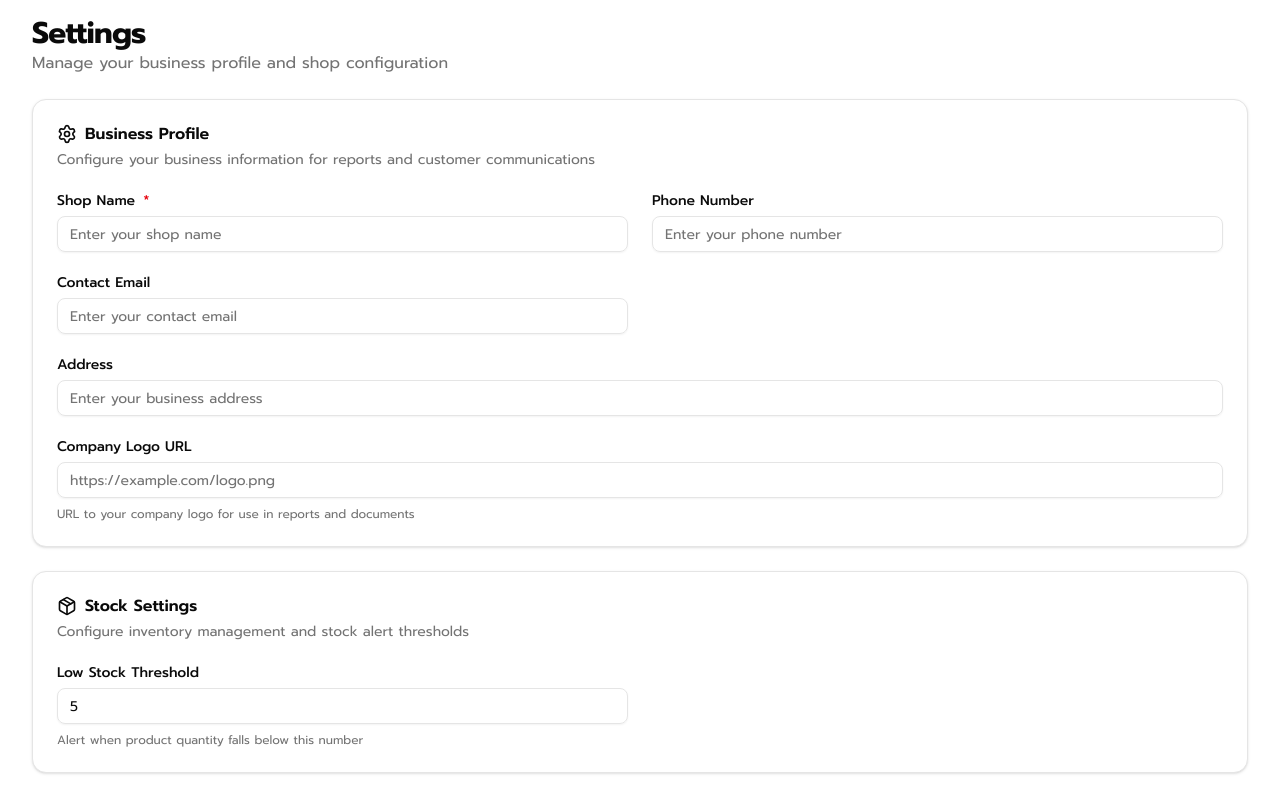
it: Settings Page › validates email format
This screenshot has width=1280, height=791.
Type "Test Shop" into the field labelled "Shop Name *". click: (342, 234)
box: [57, 216, 628, 252]
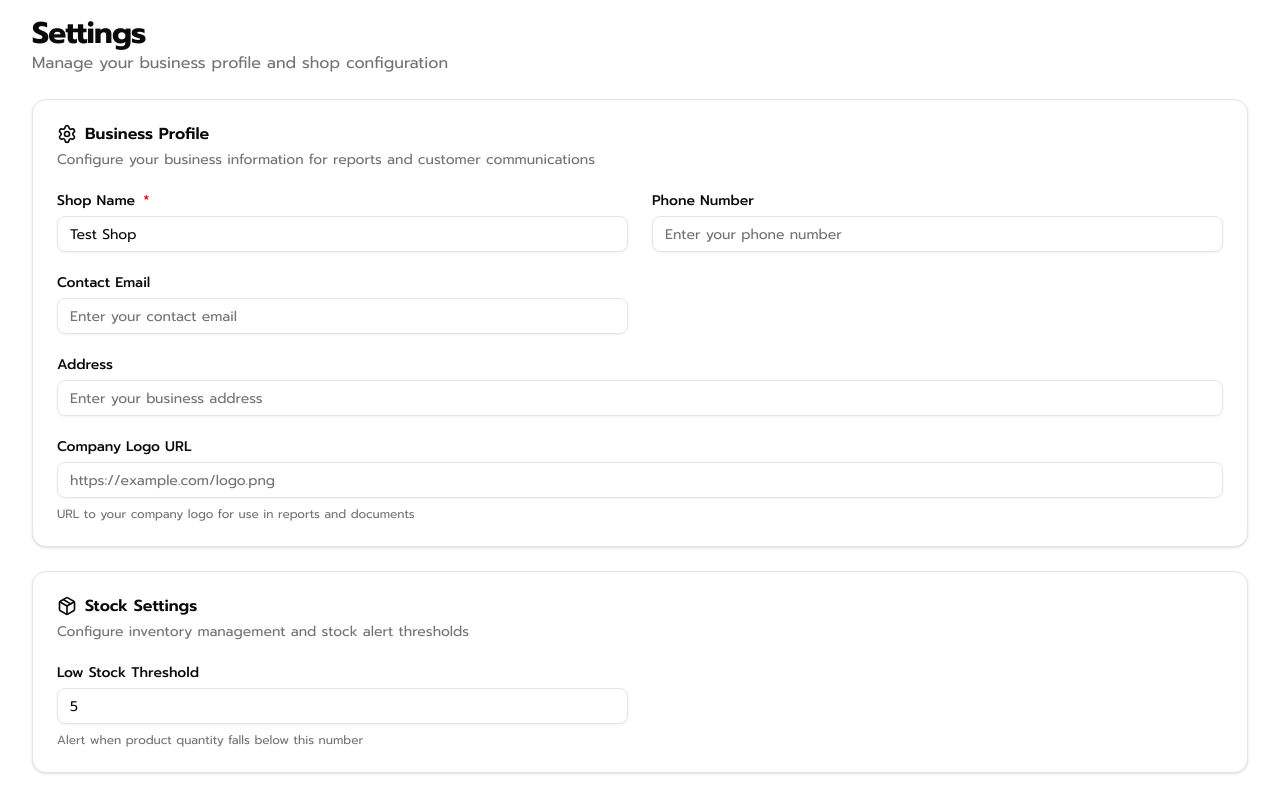
Type "invalid-email" into the field labelled "Contact Email". click: (342, 316)
box: [57, 298, 628, 334]
(page scrolled)
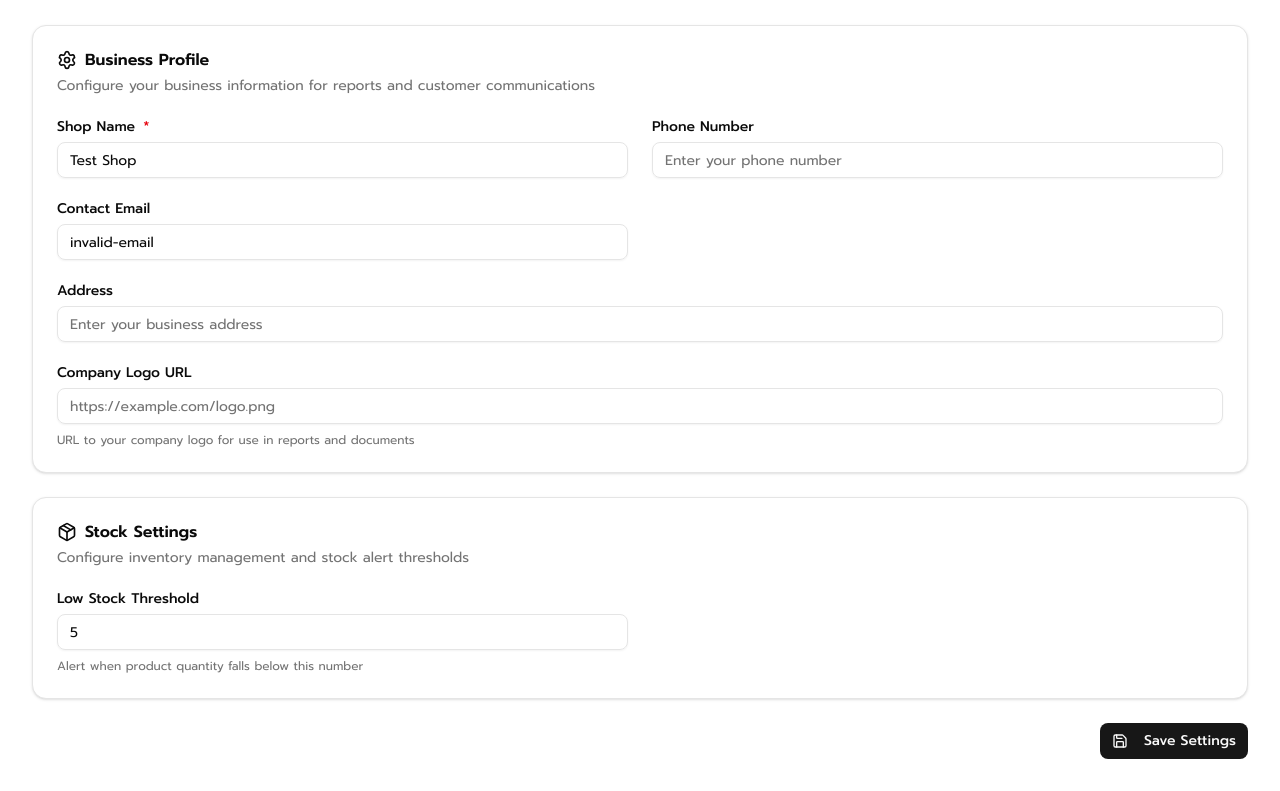
Submit the form named "Save Settings"
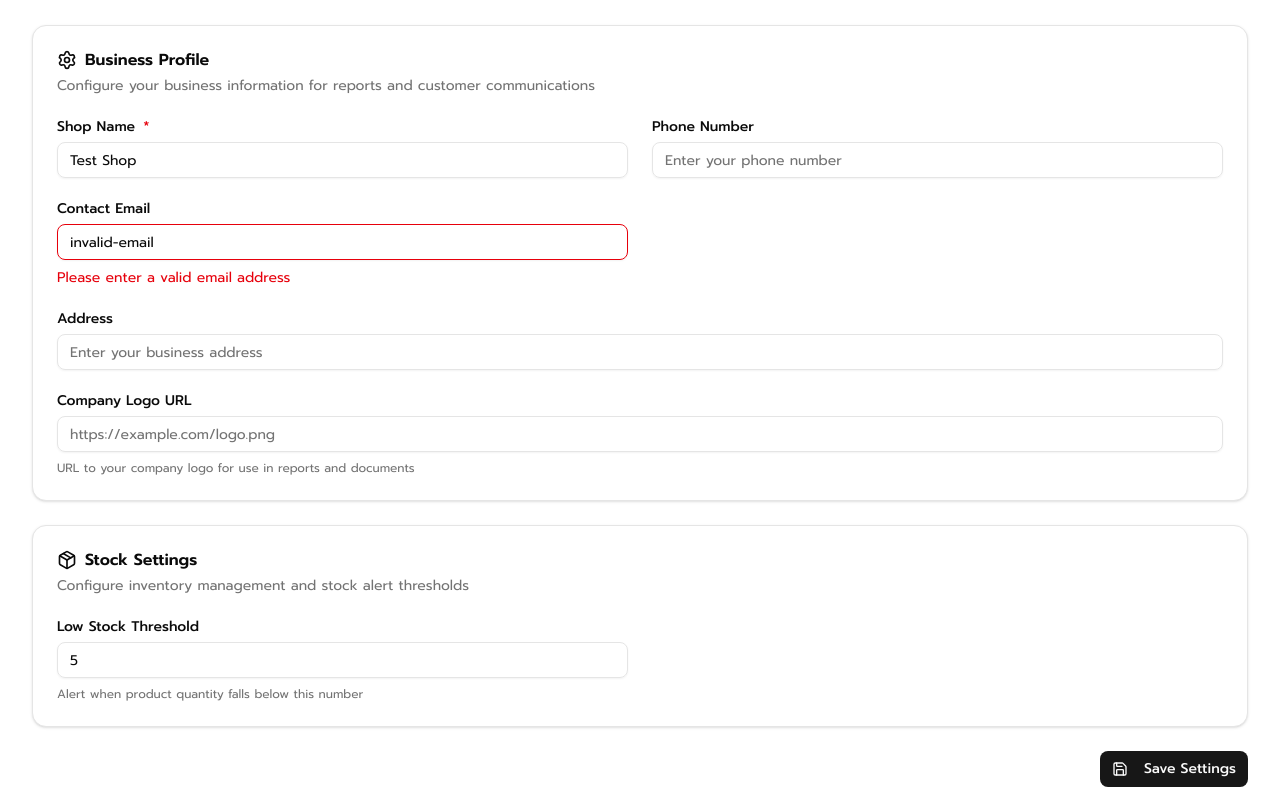
Check: the text "Please enter a valid email address" is shown, box [57, 267, 290, 288]
